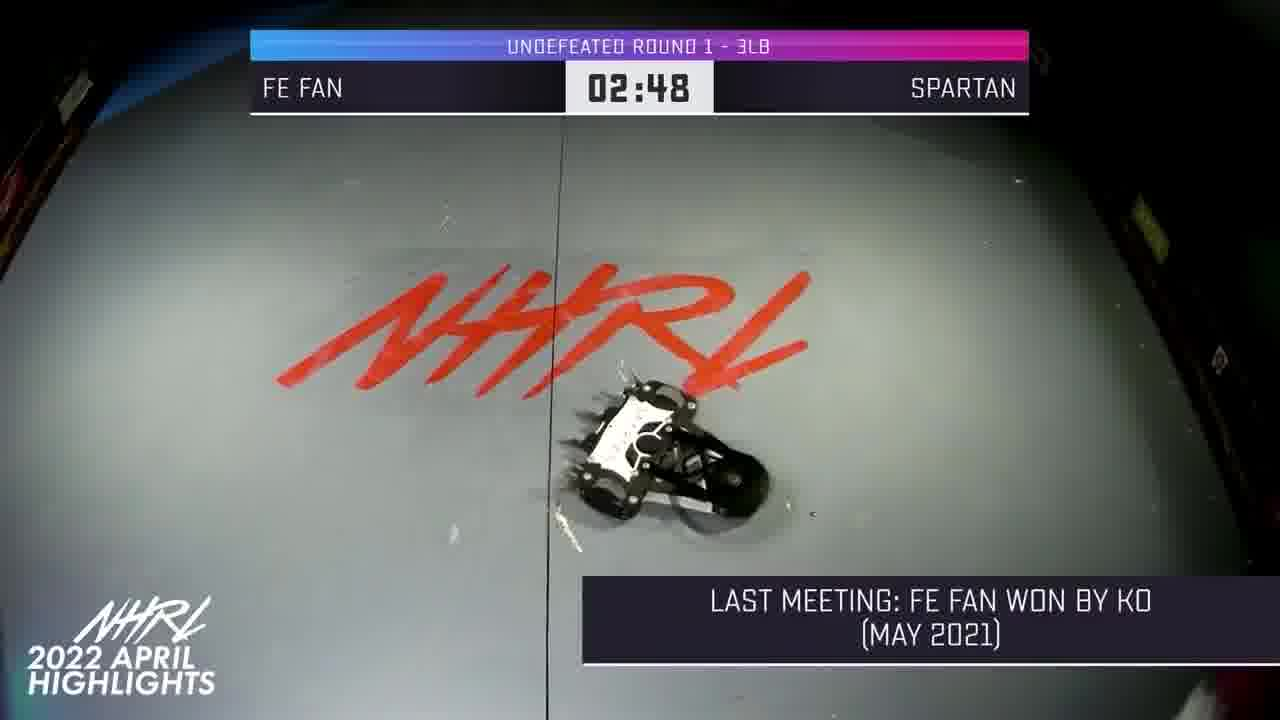combatbot: (555, 376, 802, 547)
